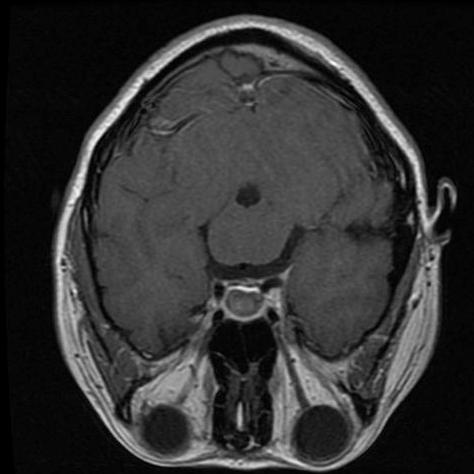Tumour-Pituitary: (198, 269, 290, 327)
